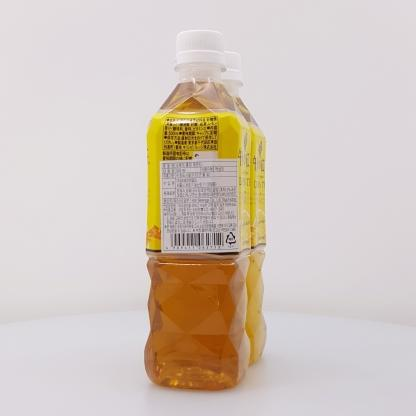--------------500ml: (143, 27, 253, 391)
